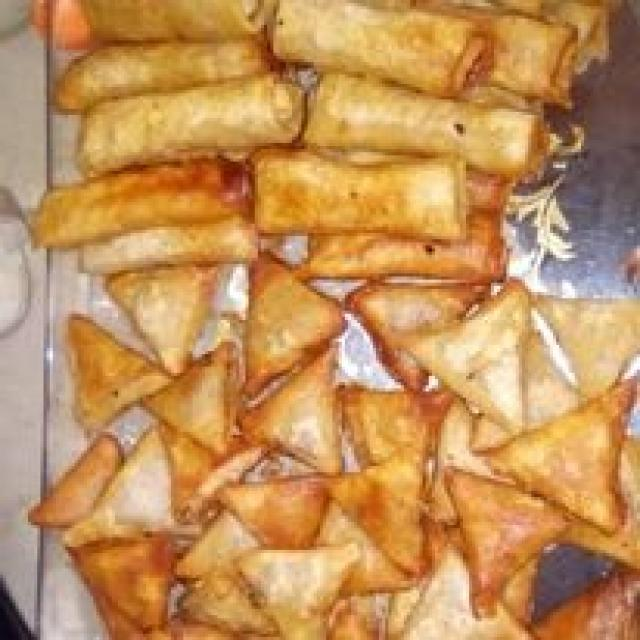Samosa: (36, 257, 640, 640)
Spring Rolls: (26, 0, 624, 279)
